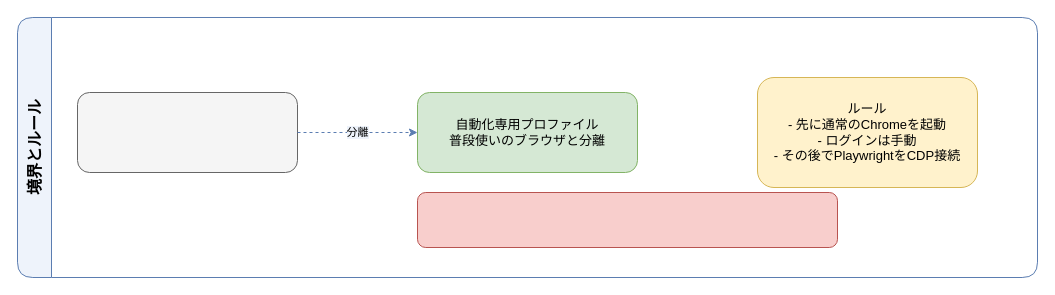
Some shapes in this 1055 by 295 pixel diagram are drawn without their labels. Each missing label, with the box of its shape:
トラブルシュート secure-browser、CDP、stale profile は references/troubleshooting.md を参照: (416, 192, 838, 248)
普段使いのChromeプロファイル 人の通常ブラウジング用: (76, 92, 298, 172)
